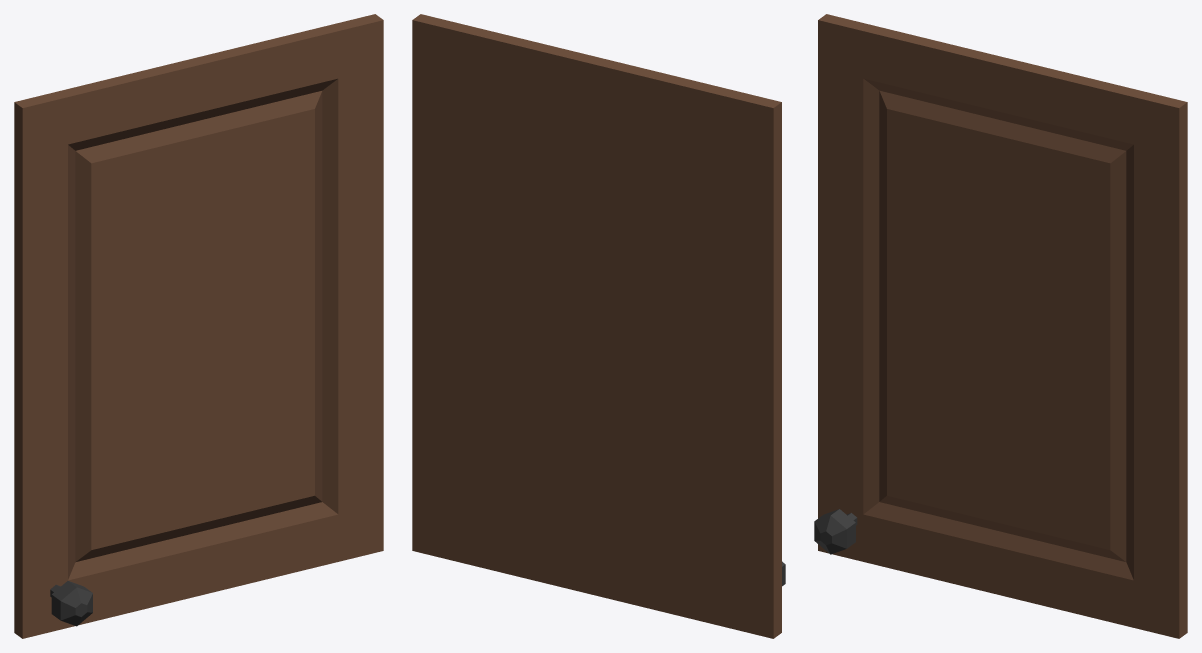
Rendered from Wardrobe7_C3_08.fbx.
3 renders of one model, left to right at view 1: azimuth 30°, elevation 25°; view 2: azimuth 150°, elevation 25°; view 3: azimuth 330°, elevation 25°, orthographic.
Visible parts, largest first — view 1: Wardrobe7_C3_08; view 2: Wardrobe7_C3_08; view 3: Wardrobe7_C3_08.
Part boxes in pixels (x1,y1,x2,y2): Wardrobe7_C3_08: [14, 14, 383, 638]; Wardrobe7_C3_08: [412, 14, 785, 638]; Wardrobe7_C3_08: [814, 14, 1187, 638].
Size of the model in its own units: 50 by 70.23 by 8.1.
